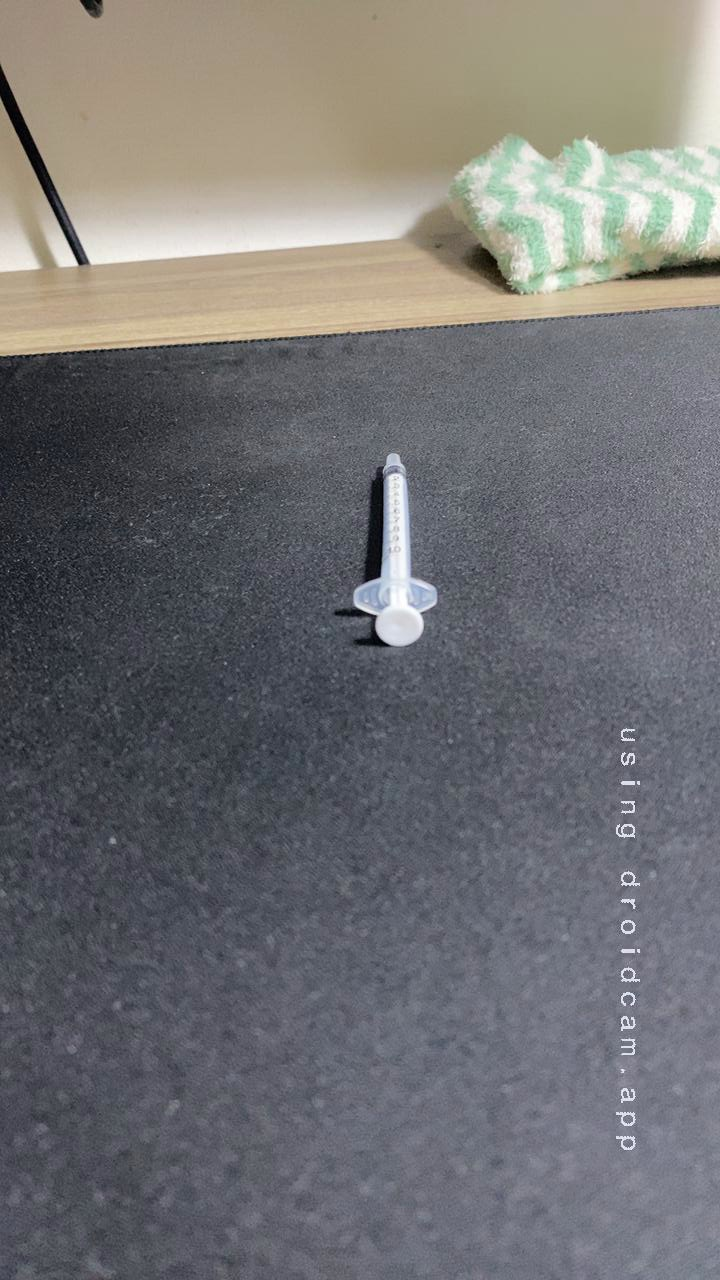syringe: (336, 449, 451, 658)
